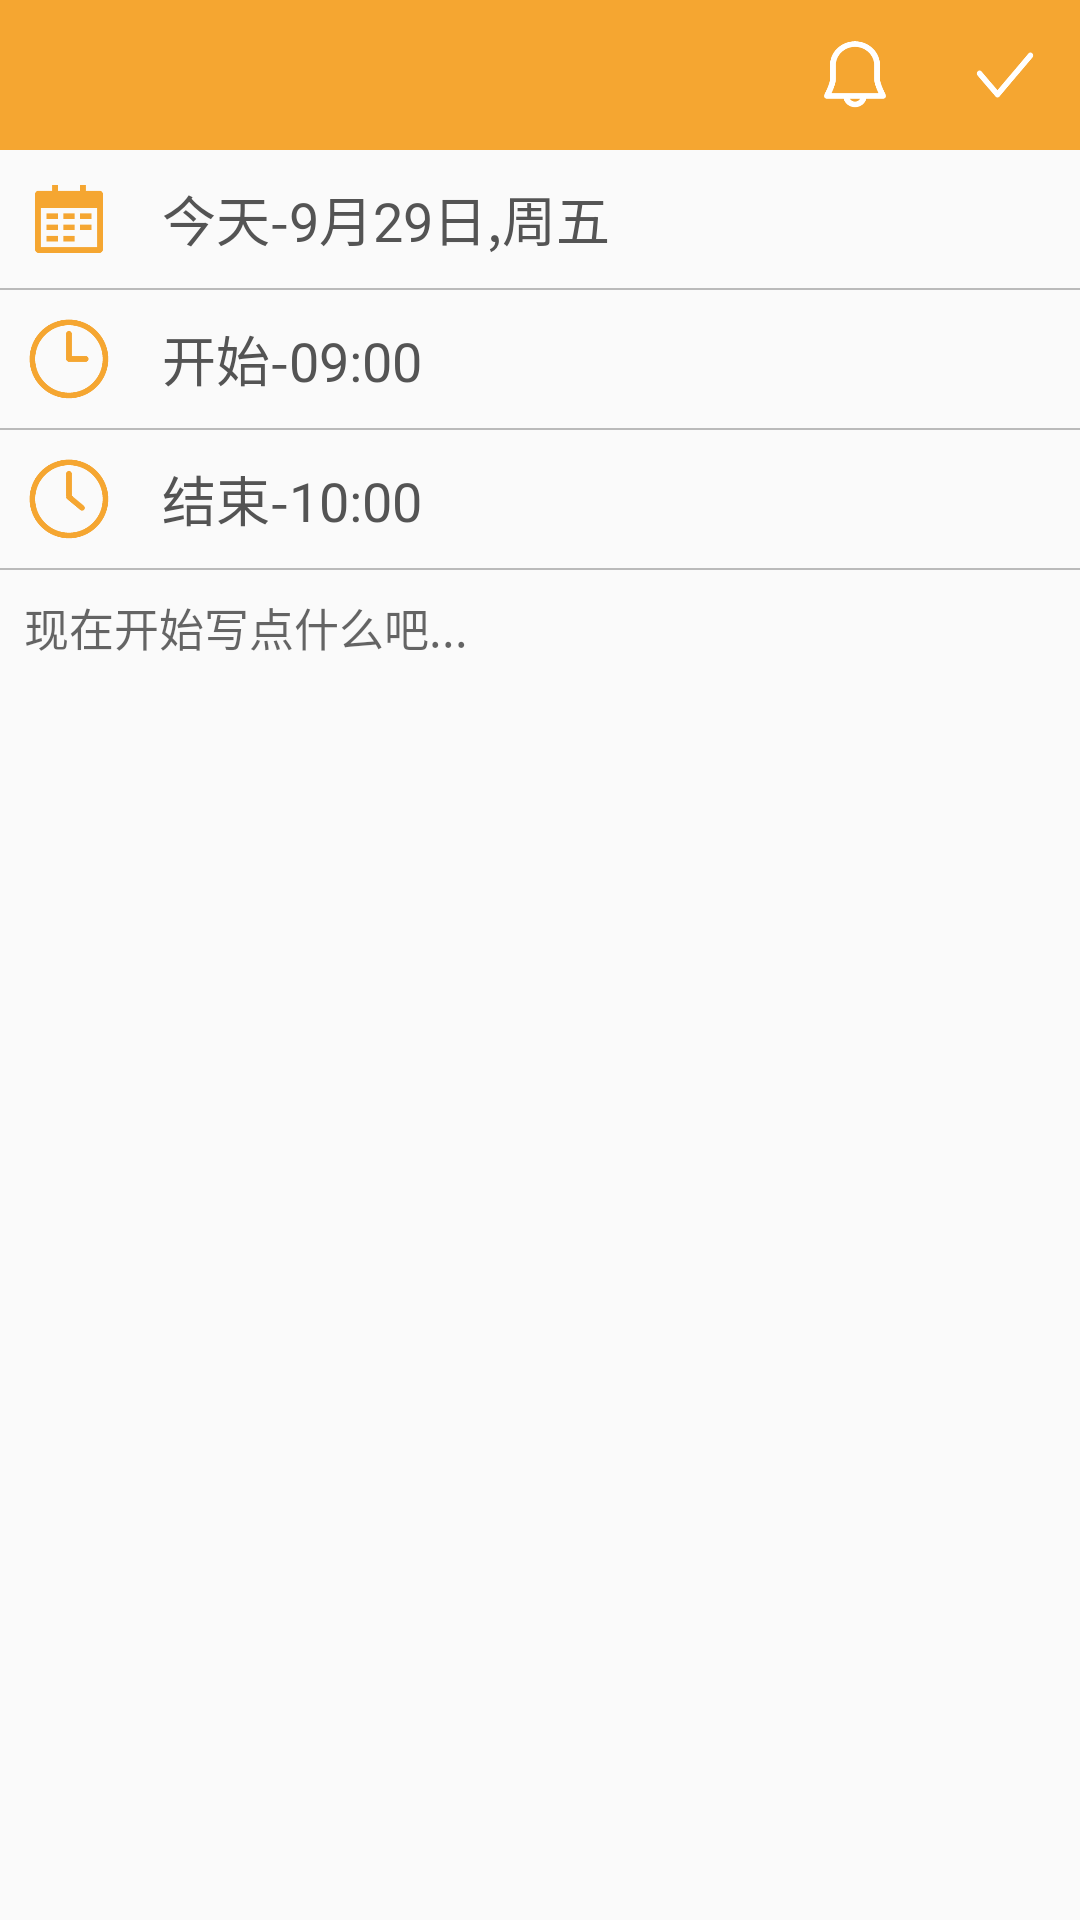

Icon click points for this 1080 x 1920 phone screenshot, format [x,y]:
date: [69,219]
save: [1005,75]
time: [69,359]
time finish: [69,499]
